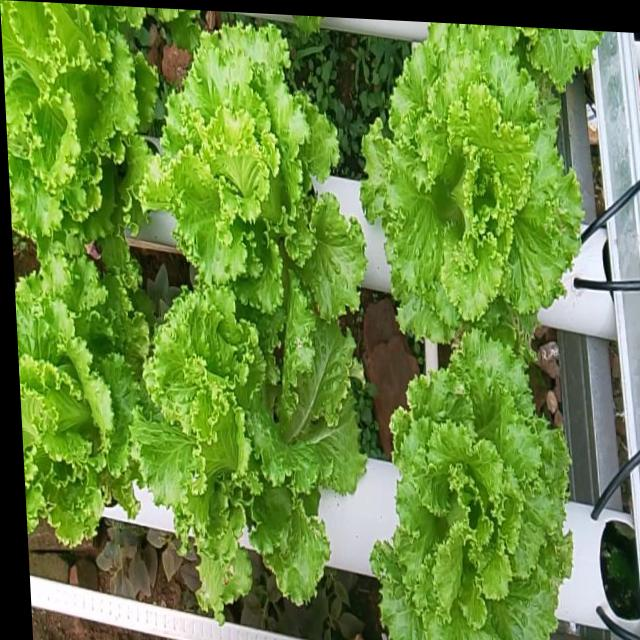Mature: (132, 283, 367, 615), (361, 24, 601, 347), (138, 19, 367, 342), (371, 324, 573, 640), (0, 0, 157, 257), (15, 249, 148, 541)
